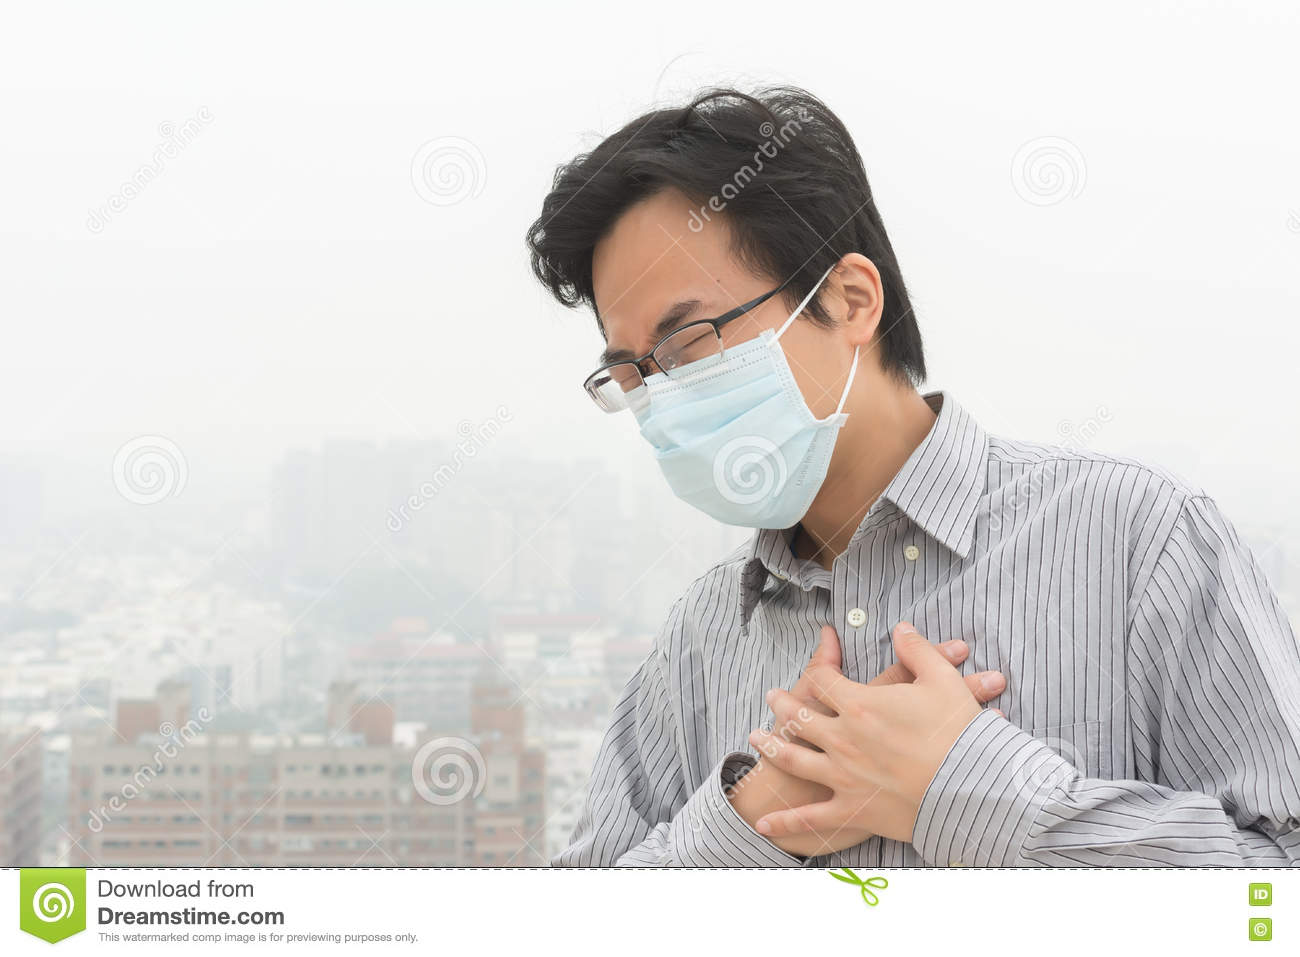mask: (627, 340, 850, 532)
